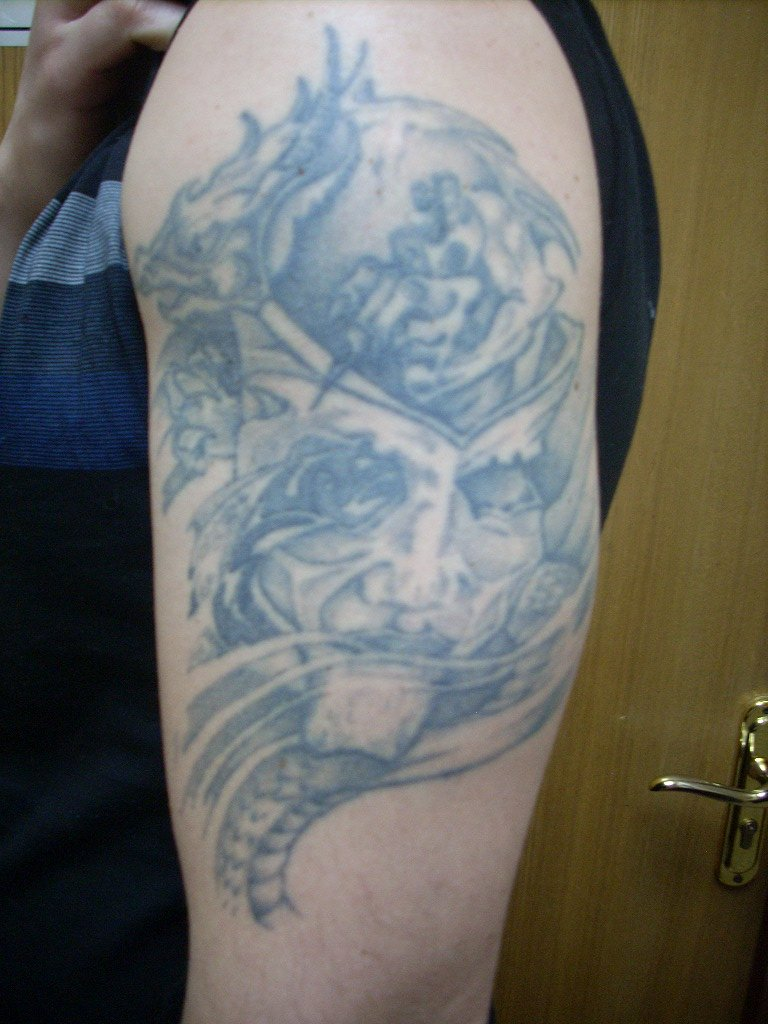tatu6_drakon: (114, 86, 612, 867)
